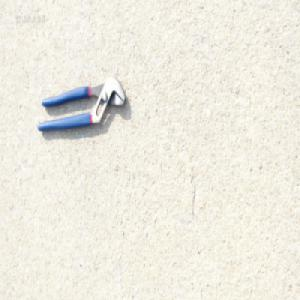Pliers: (35, 73, 126, 133)
